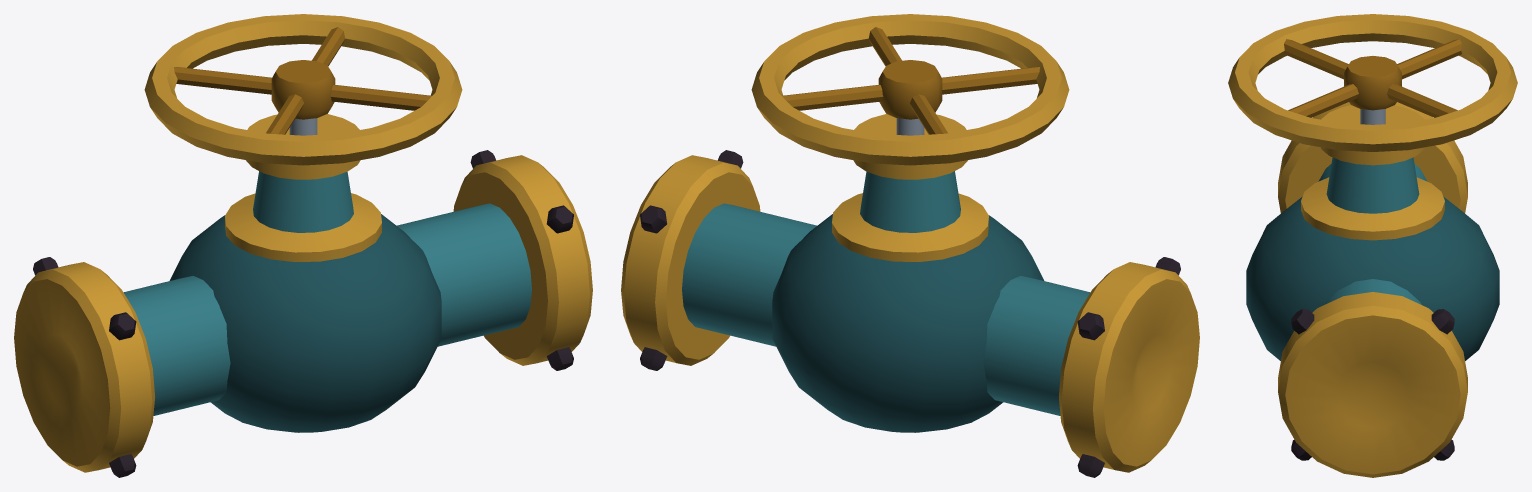
The model's file is Valve_27.glb.
The picture shows the model from 3 angles, left to right: view 1: azimuth 30°, elevation 25°; view 2: azimuth 150°, elevation 25°; view 3: azimuth 270°, elevation 25°; orthographic projection. The views are drawn at different scales.
Visible parts, largest first — view 1: Valve_27; view 2: Valve_27; view 3: Valve_27.
Boxes of the visible parts, x1,y1,x2,y2 form: Valve_27: (14, 14, 592, 477); Valve_27: (621, 14, 1199, 477); Valve_27: (1228, 14, 1517, 477).
Bounding box in the file's own units: 2.79 × 1.92 × 1.59.
